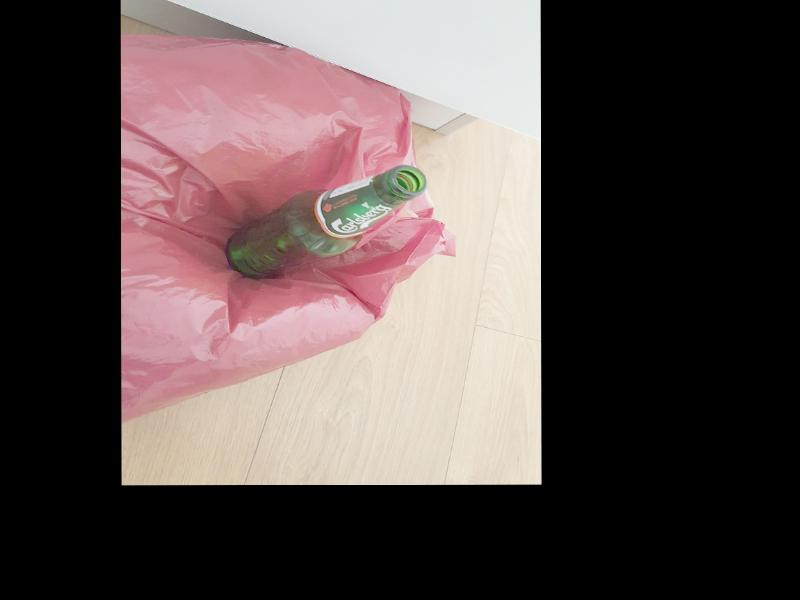Beer: (228, 166, 428, 280)
